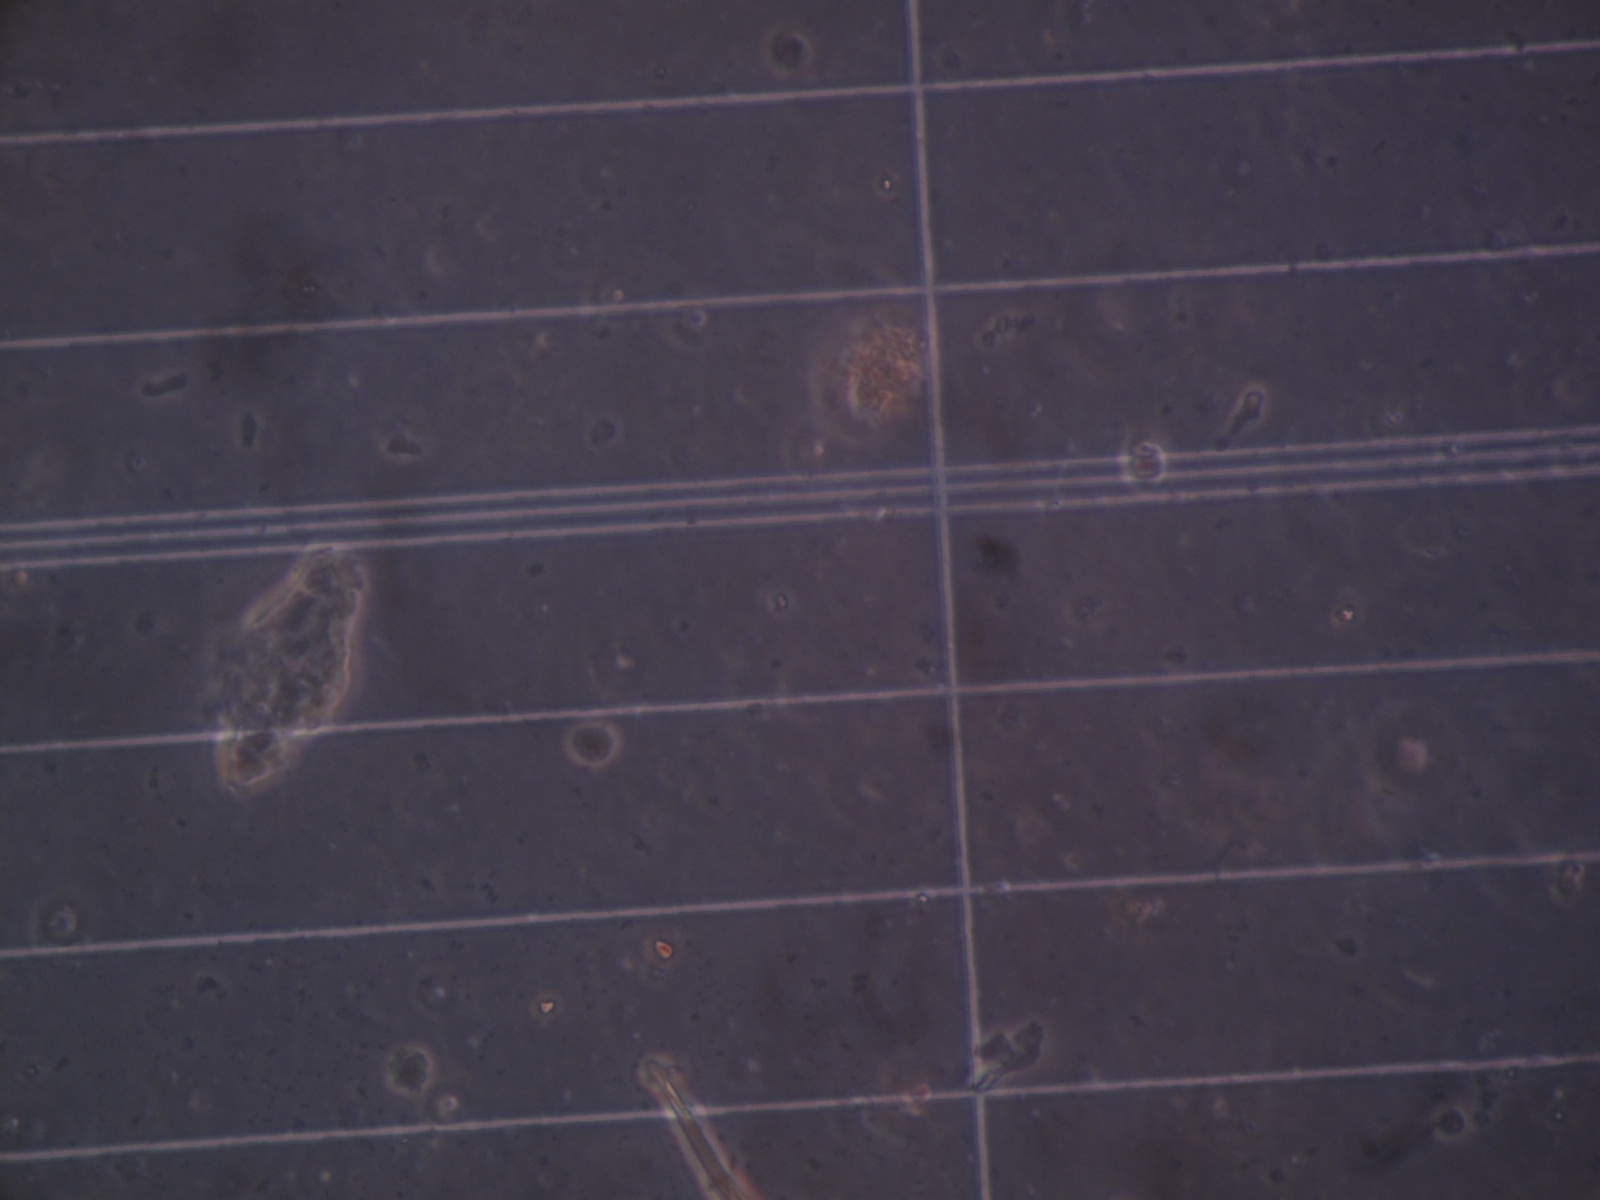hemo: (656, 292, 716, 352), (1116, 426, 1169, 487), (562, 720, 621, 769), (761, 24, 814, 78), (384, 1042, 436, 1097), (1431, 1100, 1473, 1145), (901, 1071, 935, 1116)
